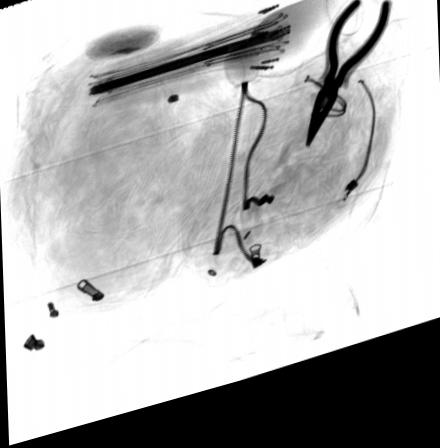Pliers: (302, 14, 392, 166)
